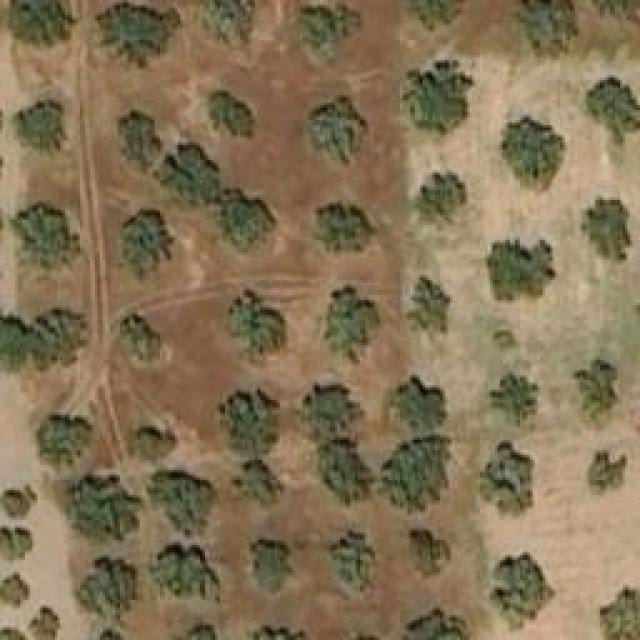Tree: (95, 0, 183, 68), (378, 435, 453, 513), (403, 60, 473, 135), (10, 203, 83, 273), (148, 470, 223, 538), (65, 475, 140, 543), (500, 117, 565, 195), (227, 283, 285, 363), (322, 285, 380, 365), (218, 385, 278, 460), (485, 238, 555, 301), (308, 95, 368, 168), (117, 208, 175, 283), (318, 438, 378, 508), (478, 440, 533, 515), (512, 0, 580, 60), (493, 552, 553, 620), (152, 543, 220, 603), (70, 558, 138, 618), (585, 75, 640, 145), (162, 145, 220, 208), (580, 198, 635, 263), (295, 0, 363, 50), (7, 0, 75, 48), (390, 375, 445, 433), (212, 190, 270, 245), (313, 200, 376, 250), (303, 383, 366, 433), (15, 97, 68, 155), (30, 310, 83, 365), (118, 110, 163, 173), (573, 360, 618, 423), (35, 413, 85, 468), (490, 373, 540, 426), (197, 0, 255, 45), (408, 275, 451, 335), (330, 535, 373, 593), (400, 0, 480, 30), (233, 457, 283, 505), (207, 90, 255, 138), (597, 587, 640, 640), (583, 450, 628, 498), (120, 312, 163, 360), (128, 425, 178, 465), (423, 173, 466, 216), (405, 612, 468, 640), (408, 530, 448, 573), (250, 537, 293, 575), (590, 0, 640, 32), (3, 485, 36, 520), (27, 607, 62, 640), (0, 570, 30, 608), (0, 527, 32, 562), (492, 330, 520, 353)
